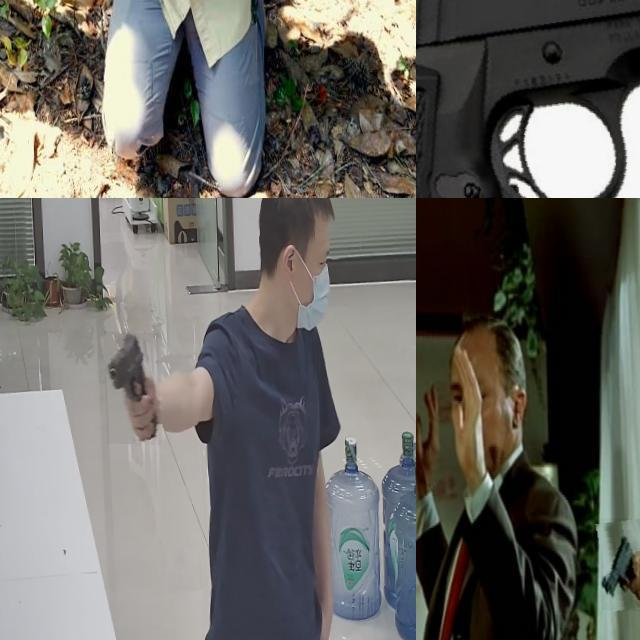-: (134, 0, 185, 49)
gun-knife-thesis - v11 Yolov5 augmented: (416, 0, 640, 198), (102, 331, 159, 444), (596, 515, 640, 608)
